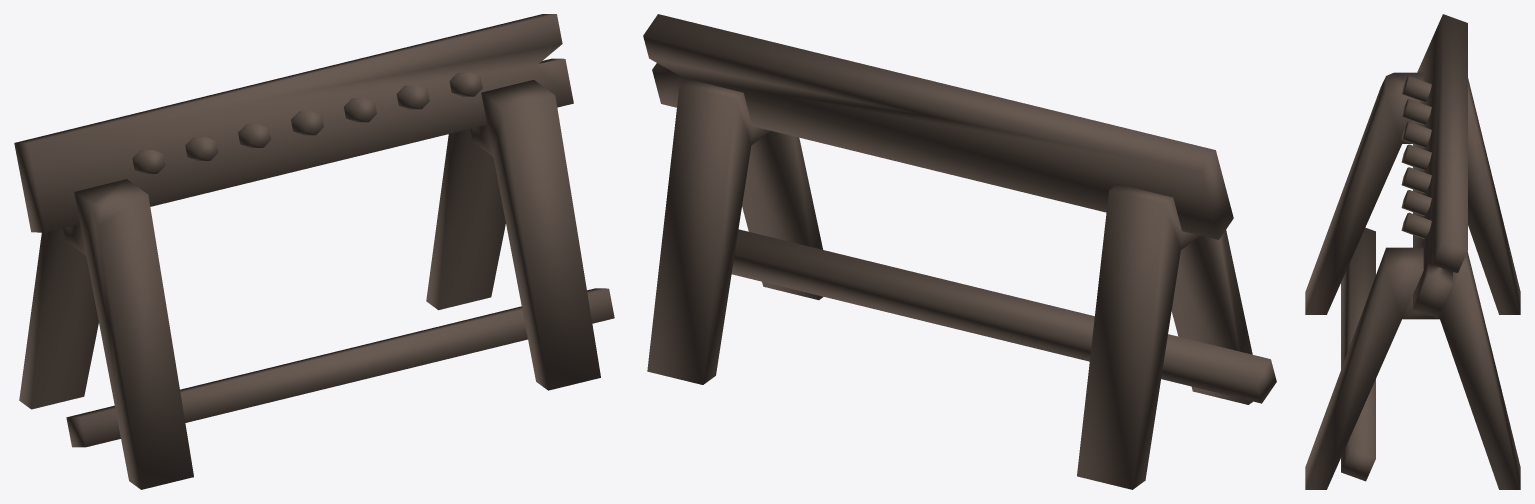
File: rack.glb
3 renders of one model, left to right at view 1: azimuth 30°, elevation 25°; view 2: azimuth 150°, elevation 25°; view 3: azimuth 270°, elevation 25°, orthographic. The views are drawn at different scales.
Parts seen in each view (by area): view 1: weaponRack; view 2: weaponRack; view 3: weaponRack.
Boxes of the visible parts, x1=… form: weaponRack: x1=14, y1=14, x2=614, y2=489; weaponRack: x1=643, y1=14, x2=1276, y2=489; weaponRack: x1=1305, y1=14, x2=1520, y2=489.
Size of the model in its own units: 1.7 by 0.9168 by 0.68.
